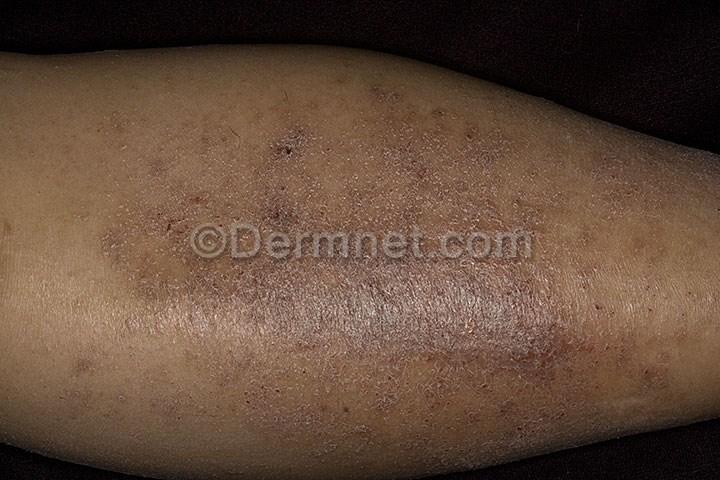Eczema: (441, 216, 526, 293), (306, 254, 394, 322), (424, 234, 492, 322), (577, 150, 667, 213), (222, 238, 279, 316), (254, 389, 338, 441), (431, 145, 486, 223), (485, 153, 537, 234), (61, 339, 134, 396), (133, 292, 208, 344), (243, 196, 319, 247), (397, 276, 450, 348), (313, 318, 392, 366), (377, 130, 435, 193), (172, 235, 224, 305), (193, 311, 268, 358), (339, 399, 392, 465), (113, 238, 177, 292), (451, 323, 522, 371), (520, 238, 561, 319), (271, 245, 314, 322), (98, 149, 157, 205), (260, 90, 335, 133), (393, 409, 448, 467), (65, 291, 138, 334), (576, 286, 631, 340), (97, 107, 165, 150), (425, 391, 484, 440), (332, 182, 395, 227), (373, 227, 424, 281), (524, 386, 572, 443), (401, 344, 457, 392), (129, 338, 196, 378), (196, 93, 272, 128), (515, 314, 567, 365), (147, 88, 196, 142), (361, 364, 416, 412), (557, 324, 604, 380), (141, 206, 208, 244), (314, 222, 377, 262), (317, 139, 374, 182), (187, 187, 234, 237), (493, 416, 543, 463), (263, 317, 315, 362), (252, 358, 319, 392), (193, 360, 254, 397), (560, 232, 610, 277), (566, 379, 604, 438), (398, 194, 434, 256), (105, 205, 157, 247), (203, 392, 267, 425), (146, 385, 196, 427), (196, 121, 246, 162), (589, 200, 648, 232), (372, 82, 413, 128), (674, 284, 720, 325), (469, 82, 520, 118), (633, 389, 675, 432), (649, 323, 694, 363), (260, 174, 306, 213), (445, 105, 487, 147), (417, 98, 461, 138), (140, 147, 190, 182), (269, 130, 315, 168), (325, 361, 364, 405), (474, 380, 521, 415), (449, 437, 495, 472), (624, 275, 661, 318), (665, 381, 700, 426), (671, 152, 714, 187), (485, 119, 524, 157), (629, 239, 673, 271), (530, 170, 565, 210), (599, 397, 638, 432), (624, 355, 665, 388), (670, 183, 715, 213), (529, 128, 556, 178), (301, 435, 337, 472), (549, 134, 588, 167), (340, 98, 376, 133), (70, 203, 105, 239), (0, 211, 29, 251), (675, 223, 712, 253), (342, 63, 375, 92), (576, 124, 625, 143), (540, 104, 574, 130), (520, 94, 546, 125)
